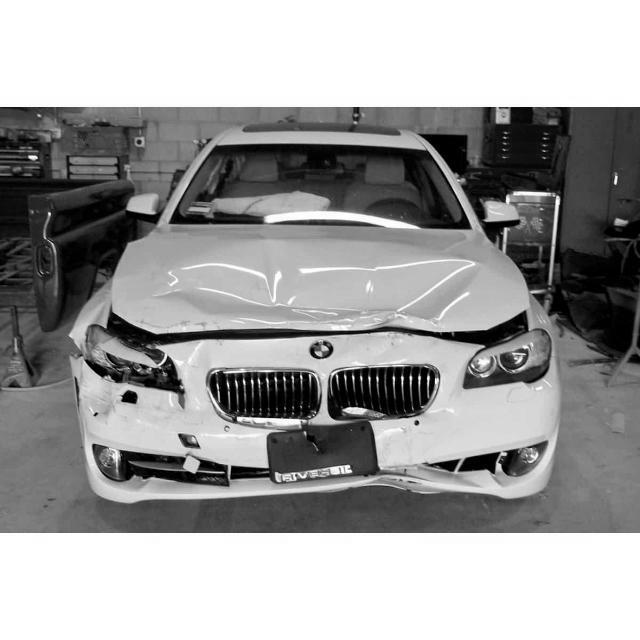Headlight-damage: (54, 325, 188, 402)
bonnet-dent: (113, 237, 523, 336)
front-bumper-dent: (266, 415, 552, 511), (71, 392, 276, 507)
